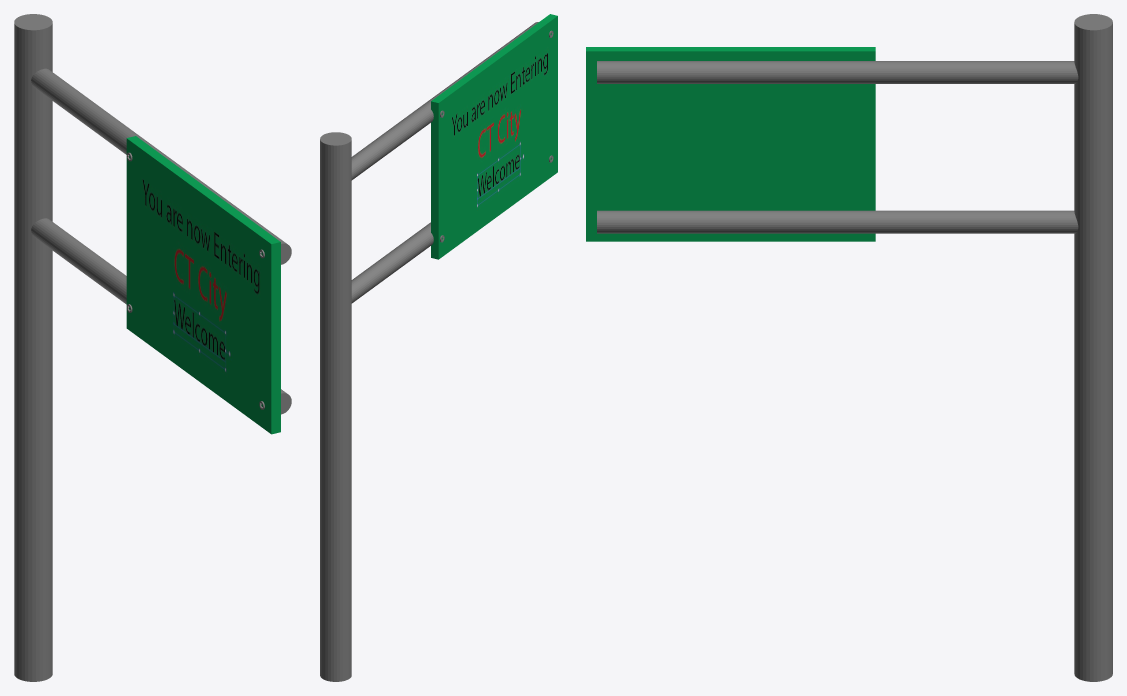
Rendered from SignCityEnter.glb.
The picture shows the model from 3 angles, left to right: view 1: azimuth 30°, elevation 25°; view 2: azimuth 150°, elevation 25°; view 3: azimuth 270°, elevation 25°; orthographic projection. The views are drawn at different scales.
Visible parts, largest first — view 1: Sign; view 2: Sign; view 3: Sign.
Part boxes in pixels (left/top/right/bottom): Sign: left=14, top=14, right=291, bottom=681; Sign: left=320, top=14, right=557, bottom=681; Sign: left=586, top=14, right=1112, bottom=681.
Bounding box in the file's own units: 0.4877 × 8.98 × 6.58.
2 materials, 1 textured.
